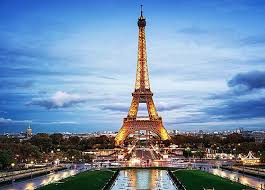tower: (108, 1, 175, 153)
